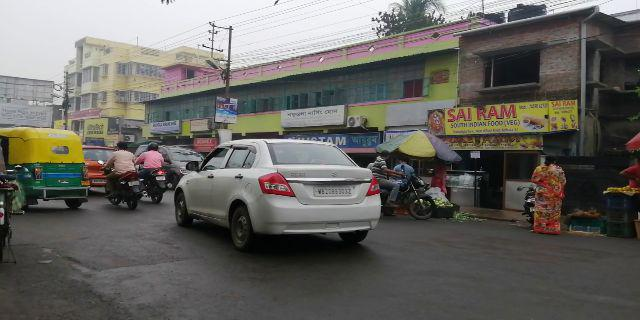Autorickshaw: (9, 123, 89, 217)
Car: (171, 138, 385, 244)
Motorbike: (102, 139, 143, 211), (142, 142, 167, 201)
